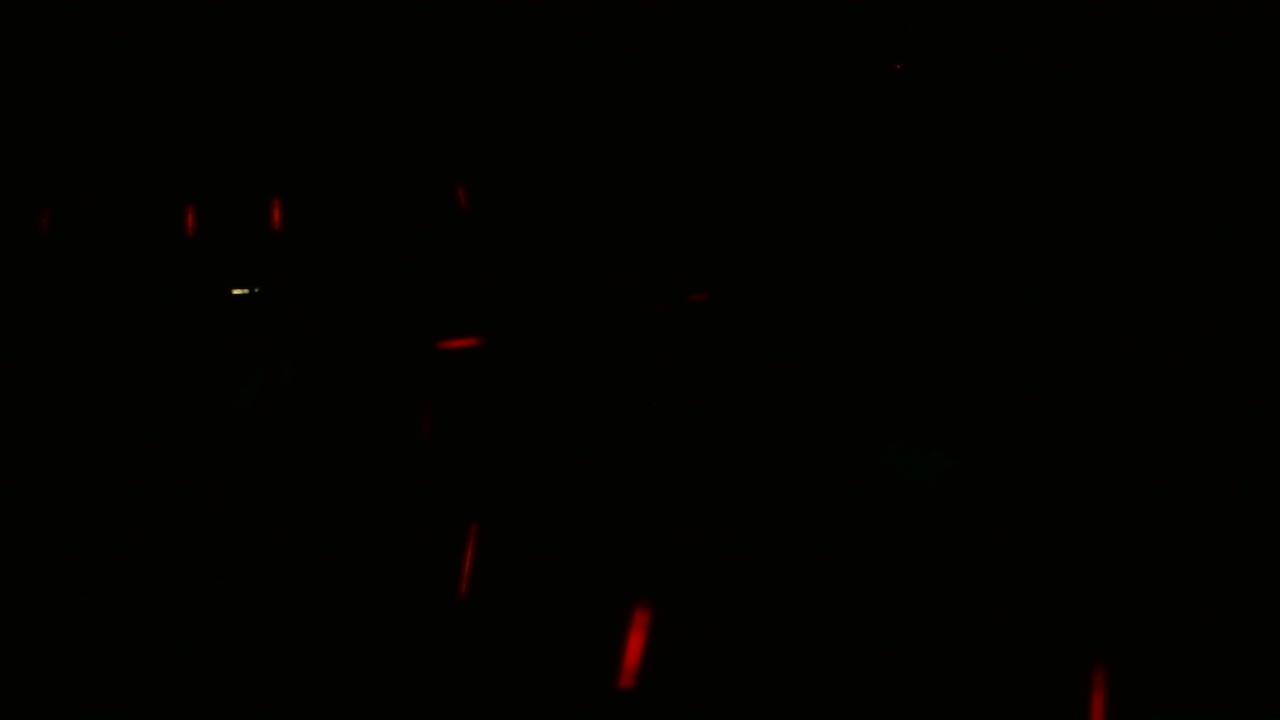pair1: (462, 530, 650, 686), (180, 192, 285, 240)
